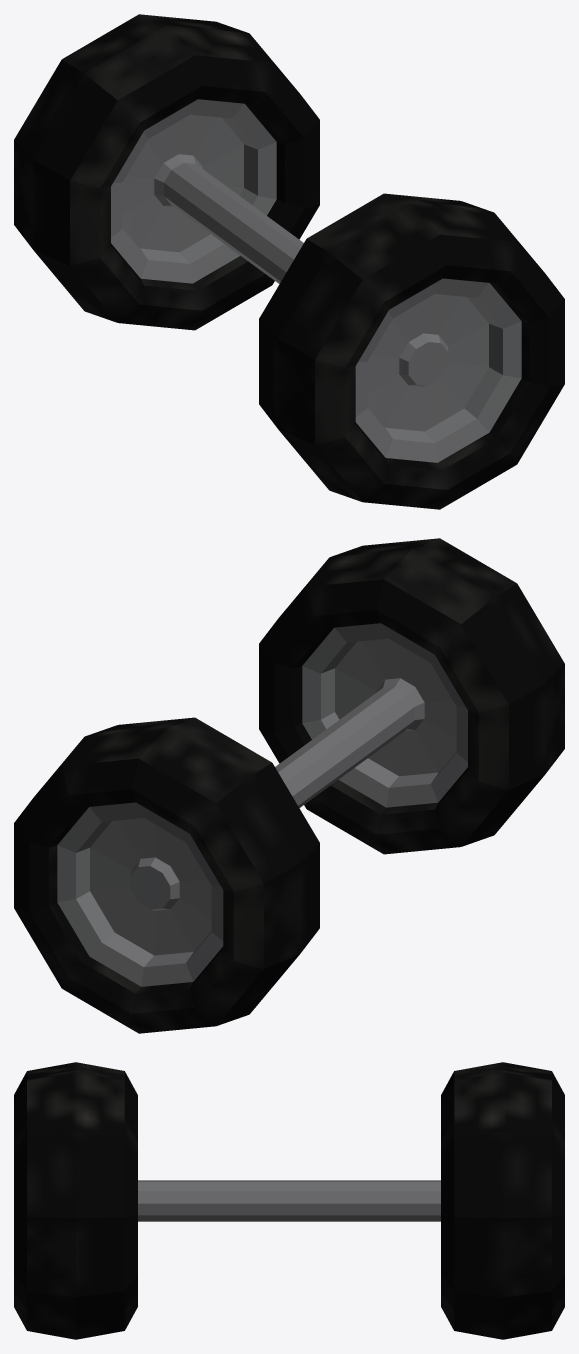
File: TruckFrontWheels.fbx
3 views of the same model, one above another, from view 1: azimuth 30°, elevation 25°; view 2: azimuth 150°, elevation 25°; view 3: azimuth 270°, elevation 25° (orthographic). The views are drawn at different scales.
Visible parts, largest first — view 1: Cube.001; view 2: Cube.001; view 3: Cube.001.
Boxes of the visible parts, x1,y1,x2,y2 form: Cube.001: [14, 14, 564, 509]; Cube.001: [14, 538, 564, 1033]; Cube.001: [14, 1062, 564, 1339].
Bounding box in the file's own units: 61.54 × 64.71 × 126.
